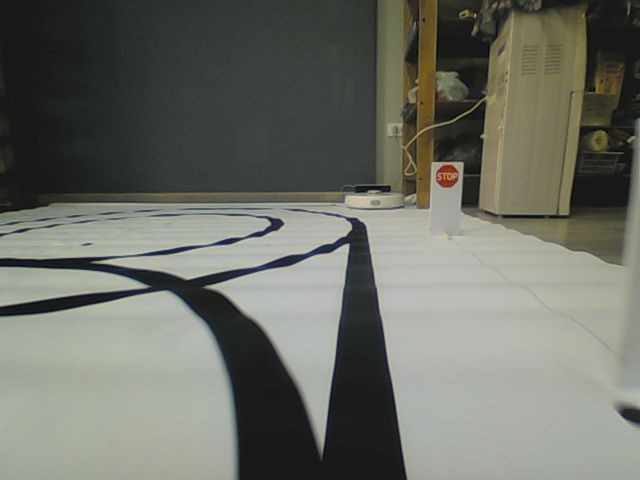Stop: (435, 163, 460, 189)
